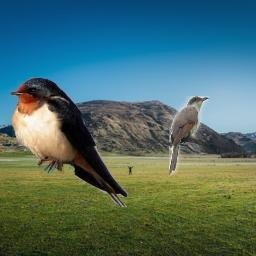Cuckoo: (169, 96, 209, 175)
Swallow: (9, 77, 128, 207)
